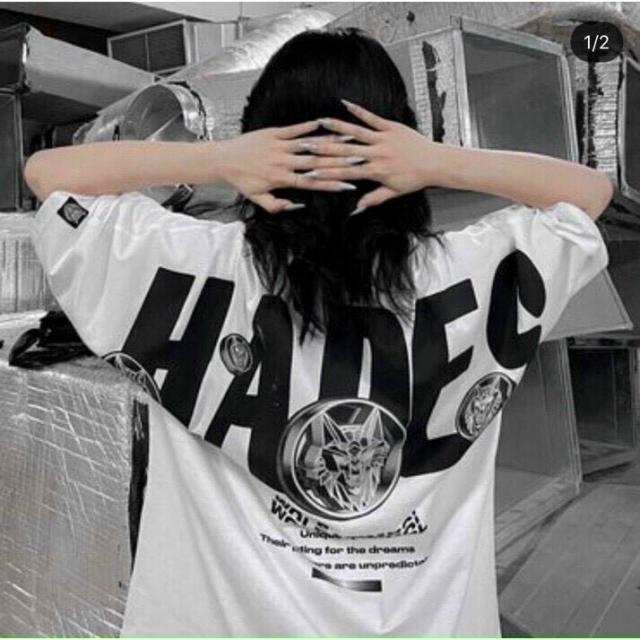Shirt: (32, 183, 610, 634)
